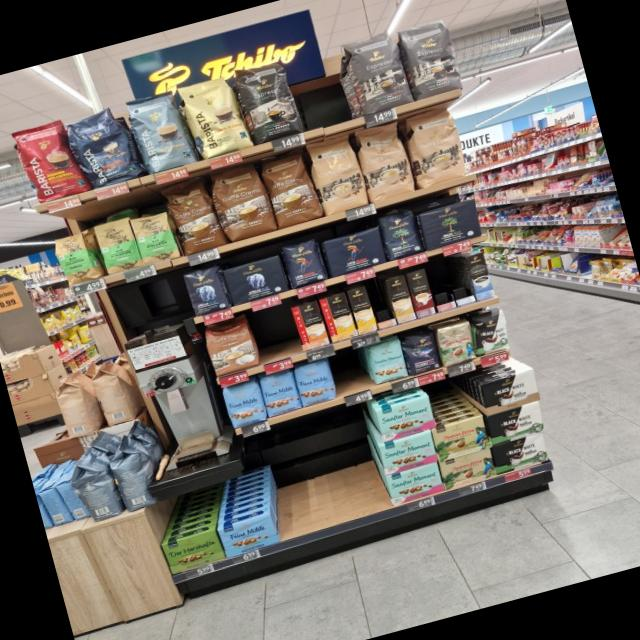AB Bohne: (180, 262, 231, 318)
AB Gemahlen: (222, 253, 291, 306)
Athiopien Bohne: (52, 228, 102, 288)
Athiopien Gemahlen: (130, 208, 180, 267), (94, 214, 142, 274)
BM Bohne: (376, 204, 426, 262)
BM Gemahlen: (416, 198, 484, 250)
BW Bohne: (470, 306, 512, 356)
Barista CB: (176, 70, 252, 162)
Barista CC: (122, 86, 198, 176)
Barista Espresso: (65, 104, 143, 190)
Barista Kolumbien: (8, 114, 90, 206)
C Fino Bohne: (399, 326, 441, 376)
CC Mild: (404, 103, 471, 187), (304, 133, 370, 216), (353, 120, 418, 201)
CC Vollmundig: (201, 314, 261, 378)
CC Vollmundig 36 Pads: (160, 172, 228, 256), (209, 160, 277, 242), (258, 146, 322, 229)
Colombia BB Bohne: (432, 316, 478, 368)
Colombia BB Gemahlen: (430, 414, 492, 462), (437, 448, 497, 490)
Empty Shelf: (264, 413, 392, 536), (286, 36, 362, 131), (249, 304, 301, 362), (332, 348, 374, 394), (424, 262, 454, 306), (444, 256, 474, 300), (368, 280, 394, 322)
Espresso Aromatisch: (336, 26, 416, 118), (398, 15, 466, 100)
Espresso Kraftig: (227, 52, 306, 146)
FM Bohne: (220, 379, 268, 429), (292, 358, 340, 407), (256, 367, 302, 418)
FM Gemahlen: (216, 512, 280, 558)
Herzhatfe Mundig: (160, 528, 227, 574)
LG Bohne: (282, 236, 328, 288)
LG Gemahlen: (322, 224, 388, 276)
SM Bohne: (366, 337, 408, 386)
SM Gemahlen: (372, 391, 438, 443), (378, 430, 438, 475), (386, 461, 446, 504)
Simo CCMild: (318, 292, 357, 344)
Simo CCMild bigpack: (346, 285, 378, 335)
Simo CCVollmundig: (290, 300, 330, 351)
Simo Decaff: (386, 274, 416, 323)
Simo Es Caramel: (405, 268, 436, 318)
Simo Es Vanilla: (464, 251, 494, 301)
